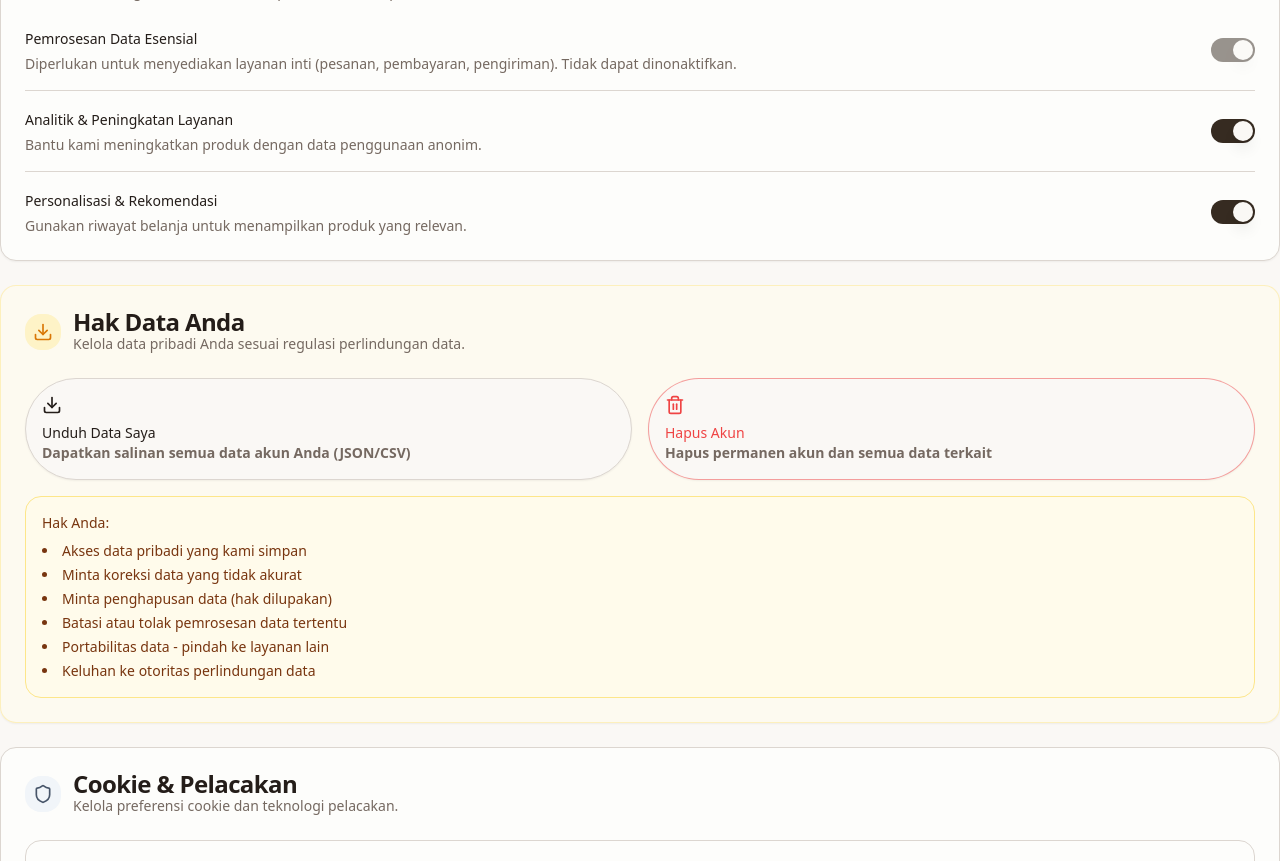
Scenario: PrivacyPage › closes delete account dialog on cancel
(page scrolled)
Click the button "Hapus Akun Hapus permanen akun dan semua data terkait" at coordinates (705, 432), box 648,378 -> 1255,480
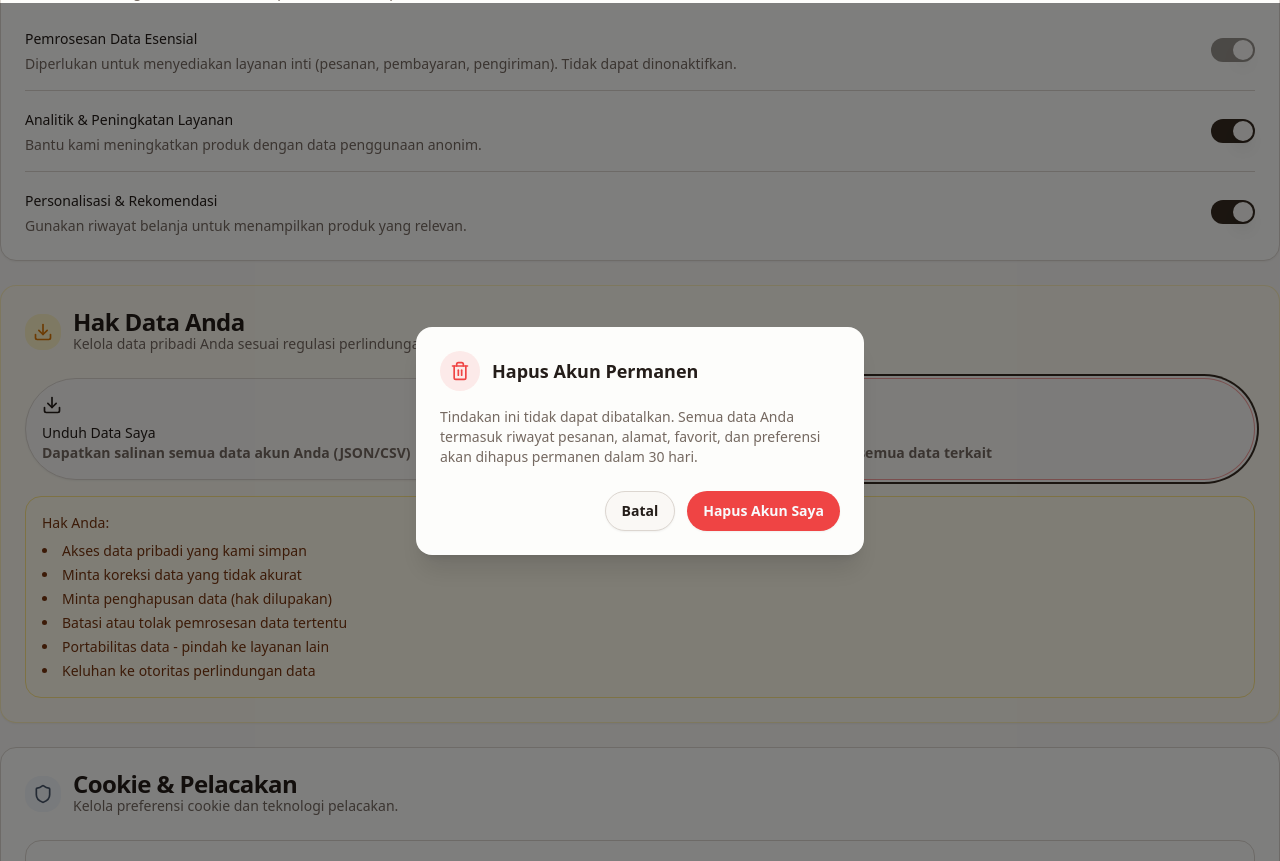
Click the button "Batal" at coordinates (640, 511), box 604,491 -> 675,531
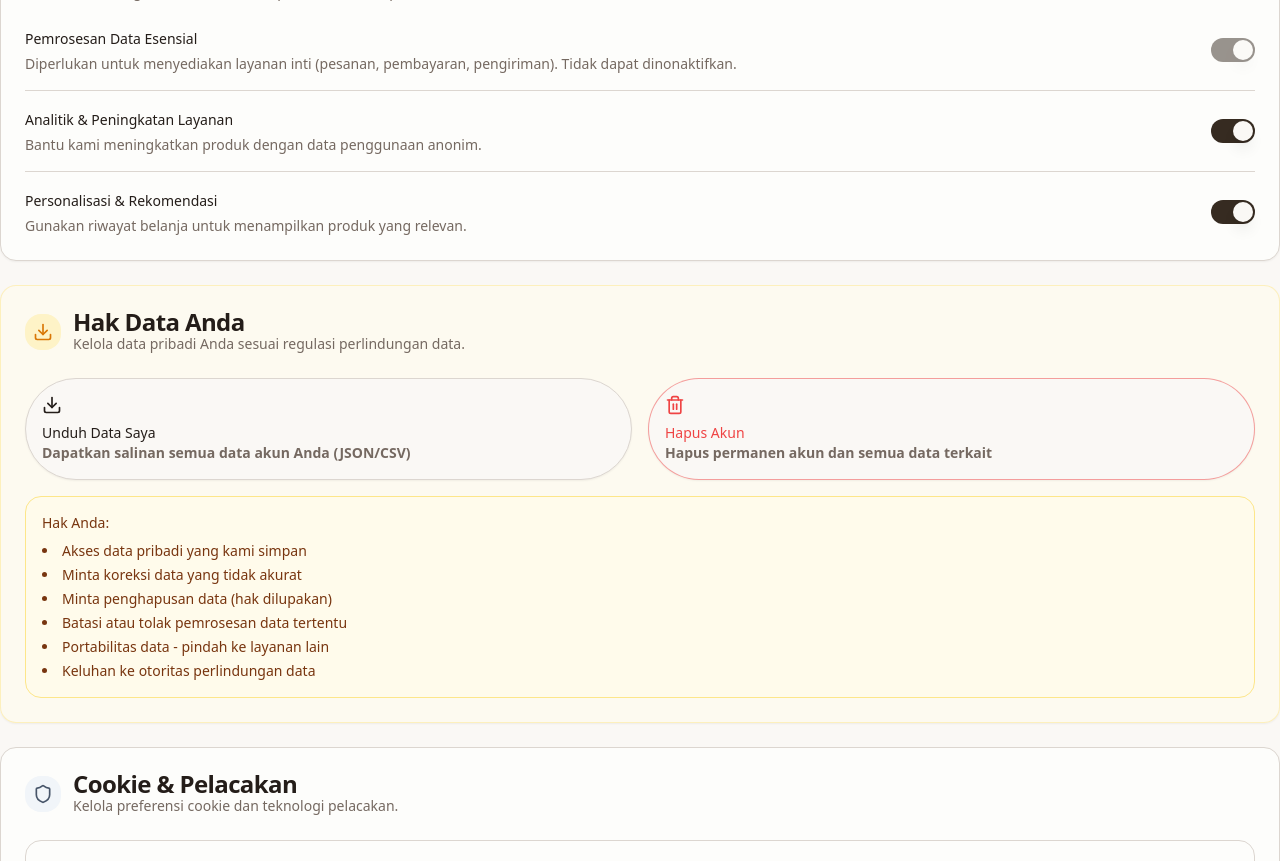
expect the heading "Hapus Akun Permanen" is gone: met
